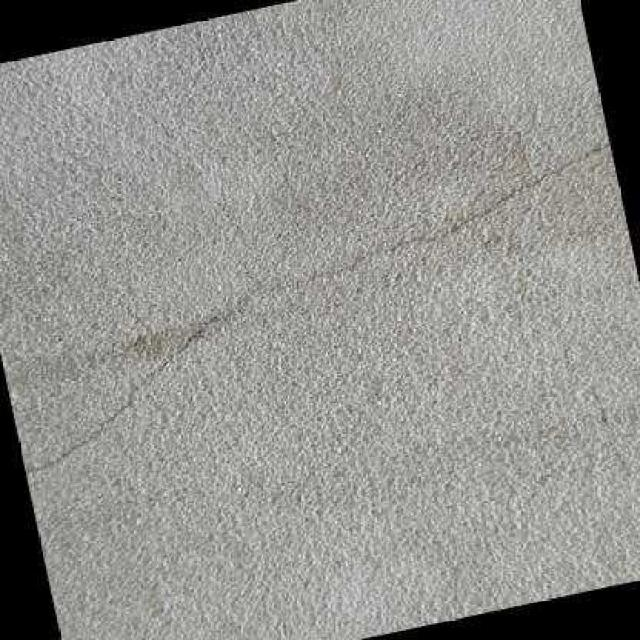D00: (35, 141, 603, 472)
